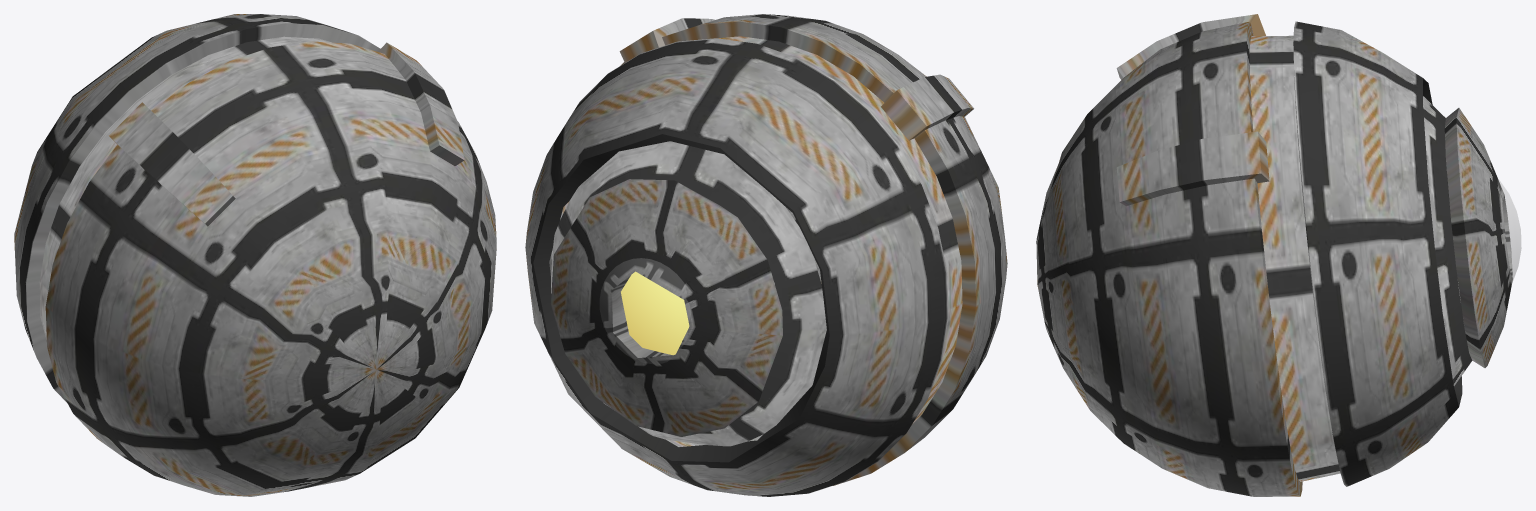
Rendered from ball_robot.glb.
3 renders of one model, left to right at view 1: azimuth 30°, elevation 25°; view 2: azimuth 150°, elevation 25°; view 3: azimuth 270°, elevation 25°, orthographic.
Parts seen in each view (by area): view 1: Sphere; view 2: Sphere; view 3: Sphere.
Part boxes in pixels (<box>): Sphere: <box>14,14,496,496</box>; Sphere: <box>525,14,1007,496</box>; Sphere: <box>1036,14,1521,496</box>.
Bounding box in the file's own units: 0.2067 × 0.2061 × 0.2098.
Materials: 4 (2 with a texture image).
